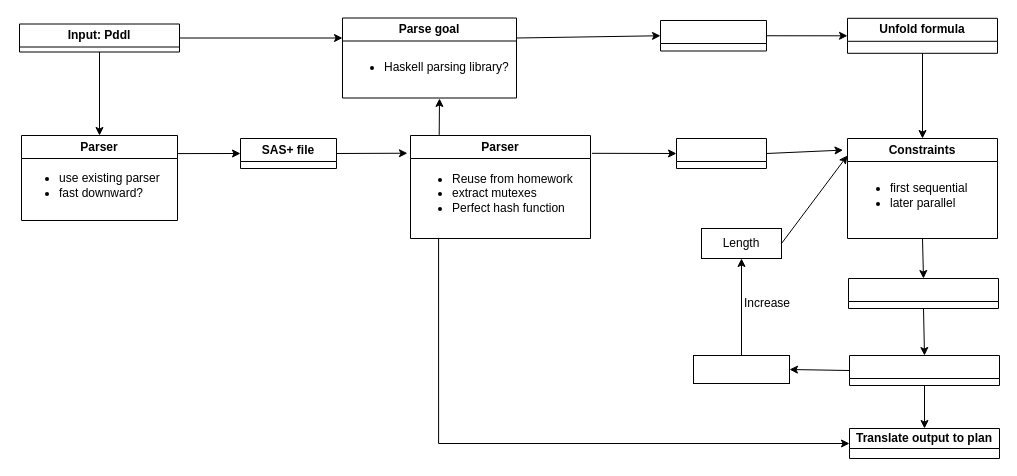
This 1017x476 diagram has some shape labels left out. The centre of each missing label's shape, as x and y in pixels:
"LTL-formula" belongs at (x=713, y=35).
"Parse input SAT solver" belongs at (x=923, y=293).
"SAT solver" belongs at (x=924, y=370).
"STRIPS" belongs at (x=721, y=153).
"Unsatisfiable" belongs at (x=741, y=369).
